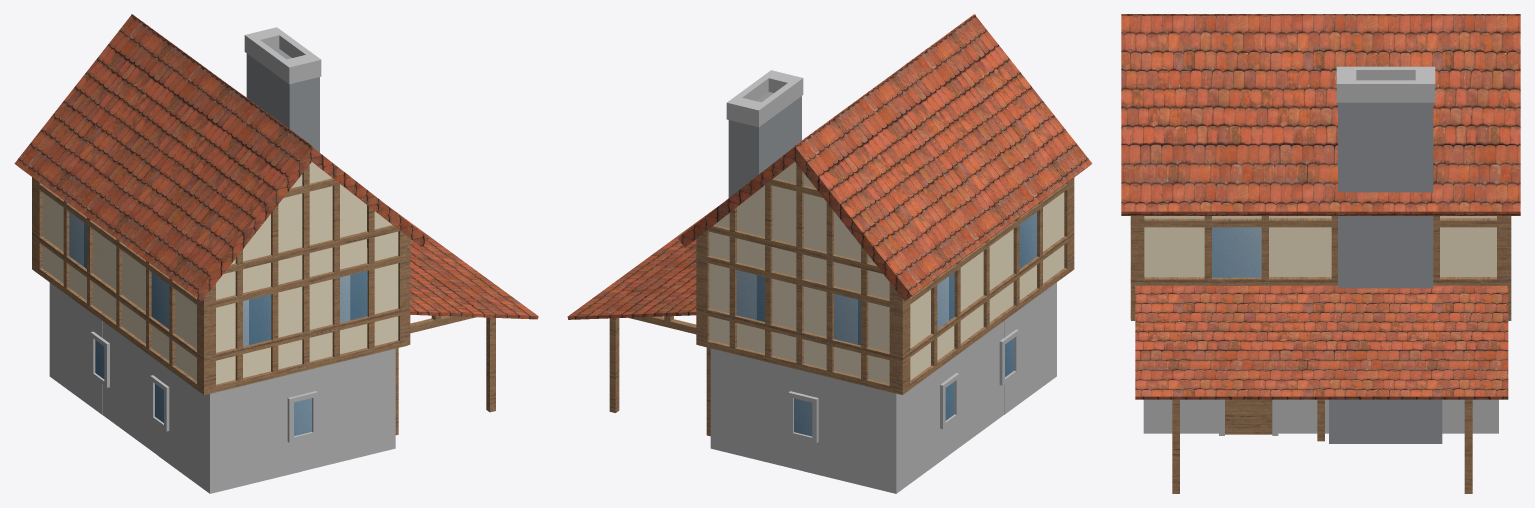
The model's file is HouseWithExtraRoof.fbx.
3 views of the same model, side by side, from view 1: azimuth 30°, elevation 25°; view 2: azimuth 150°, elevation 25°; view 3: azimuth 270°, elevation 25° (orthographic). The views are drawn at different scales.
Parts seen in each view (by area): view 1: mergedBlocks_bricks(Clone)_0.559, mergedBlocks_bricks(Clone)_0.547, mergedBlocks_bricks(Clone)_0.532, mergedBlocks_custom10(Clone)_0.1324, mergedBlocks_custom10(Clone)_0.1302, mergedBlocks_bricks(Clone)_0.289, mergedBlocks_custom9(Clone)_0.788, mergedBlocks_custom9(Clone)_0.760, mergedBlocks_custom10(Clone)_0.1317, mergedBlocks_custom10(Clone)_0.1295, mergedBlocks_custom10(Clone)_0.1301, mergedBlocks_custom9(Clone)_0.781 (+34 smaller); view 2: mergedBlocks_bricks(Clone)_0.559, mergedBlocks_bricks(Clone)_0.547, mergedBlocks_bricks(Clone)_0.532, mergedBlocks_custom10(Clone)_0.1333, mergedBlocks_custom10(Clone)_0.1293, mergedBlocks_bricks(Clone)_0.289, mergedBlocks_custom9(Clone)_0.797, mergedBlocks_custom9(Clone)_0.763, mergedBlocks_custom10(Clone)_0.1295, mergedBlocks_custom10(Clone)_0.1317, mergedBlocks_custom10(Clone)_0.1301, mergedBlocks_custom9(Clone)_0.775 (+34 smaller); view 3: mergedBlocks_bricks(Clone)_0.289, mergedBlocks_bricks(Clone)_0.565, mergedBlocks_bricks(Clone)_0.553, mergedBlocks_bricks(Clone)_0.541, mergedBlocks_custom11(Clone)_0.034, mergedBlocks_custom11(Clone)_0.040, mergedBlocks_custom9(Clone)_0.786, mergedBlocks_custom9(Clone)_0.792, mergedBlocks_custom9(Clone)_0.798, mergedBlocks_custom1(Clone)_0.880, mergedBlocks_custom10(Clone)_0.1322, mergedBlocks_wood(Clone)_0.3553 (+22 smaller).
Part boxes in pixels (box(x1,y1,x2,y2)): mergedBlocks_bricks(Clone)_0.559: box(123, 95, 312, 295); mergedBlocks_bricks(Clone)_0.547: box(14, 14, 183, 215); mergedBlocks_bricks(Clone)_0.532: box(86, 52, 254, 242); mergedBlocks_custom10(Clone)_0.1324: box(302, 348, 395, 470); mergedBlocks_custom10(Clone)_0.1302: box(210, 371, 302, 493); mergedBlocks_bricks(Clone)_0.289: box(391, 208, 538, 316); mergedBlocks_custom9(Clone)_0.788: box(309, 240, 398, 361); mergedBlocks_custom9(Clone)_0.760: box(216, 263, 302, 384); mergedBlocks_custom10(Clone)_0.1317: box(102, 321, 157, 454); mergedBlocks_custom10(Clone)_0.1295: box(49, 282, 101, 414); mergedBlocks_custom10(Clone)_0.1301: box(157, 361, 209, 493); mergedBlocks_custom9(Clone)_0.781: box(309, 162, 398, 261); mergedBlocks_bricks(Clone)_0.559: box(905, 14, 1092, 215); mergedBlocks_bricks(Clone)_0.547: box(794, 108, 983, 295); mergedBlocks_bricks(Clone)_0.532: box(846, 56, 1019, 242); mergedBlocks_custom10(Clone)_0.1333: box(710, 348, 803, 471); mergedBlocks_custom10(Clone)_0.1293: box(804, 371, 896, 493); mergedBlocks_bricks(Clone)_0.289: box(568, 205, 719, 316); mergedBlocks_custom9(Clone)_0.797: box(709, 240, 796, 361); mergedBlocks_custom9(Clone)_0.763: box(803, 263, 889, 384); mergedBlocks_custom10(Clone)_0.1295: box(896, 362, 948, 493); mergedBlocks_custom10(Clone)_0.1317: box(948, 321, 1003, 454); mergedBlocks_custom10(Clone)_0.1301: box(1004, 282, 1056, 414); mergedBlocks_custom9(Clone)_0.775: box(709, 162, 796, 261); mergedBlocks_bricks(Clone)_0.289: box(1135, 285, 1508, 396); mergedBlocks_bricks(Clone)_0.565: box(1121, 14, 1279, 211); mergedBlocks_bricks(Clone)_0.553: box(1362, 14, 1520, 211); mergedBlocks_bricks(Clone)_0.541: box(1235, 14, 1393, 211); mergedBlocks_custom11(Clone)_0.034: box(1338, 102, 1433, 288); mergedBlocks_custom11(Clone)_0.040: box(1329, 399, 1442, 443); mergedBlocks_custom9(Clone)_0.786: box(1144, 216, 1261, 277); mergedBlocks_custom9(Clone)_0.792: box(1269, 216, 1331, 276); mergedBlocks_custom9(Clone)_0.798: box(1440, 216, 1496, 276); mergedBlocks_custom1(Clone)_0.880: box(1212, 227, 1261, 277); mergedBlocks_custom10(Clone)_0.1322: box(1143, 399, 1218, 433); mergedBlocks_wood(Clone)_0.3553: box(1137, 220, 1496, 227).
Size of the model in its own units: 3463 by 3142 by 3085.
